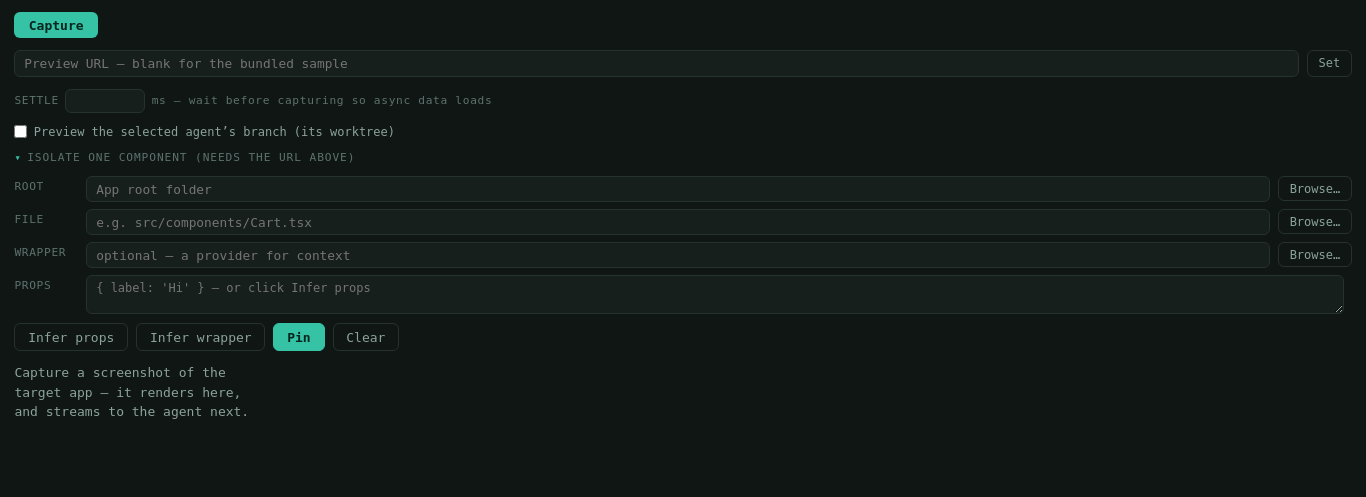
Preview › stringifies a non-Error worktree failure
Click the checkbox named "Preview the selected agent's branch": (21, 132) top-left (14, 125), bottom-right (27, 138)
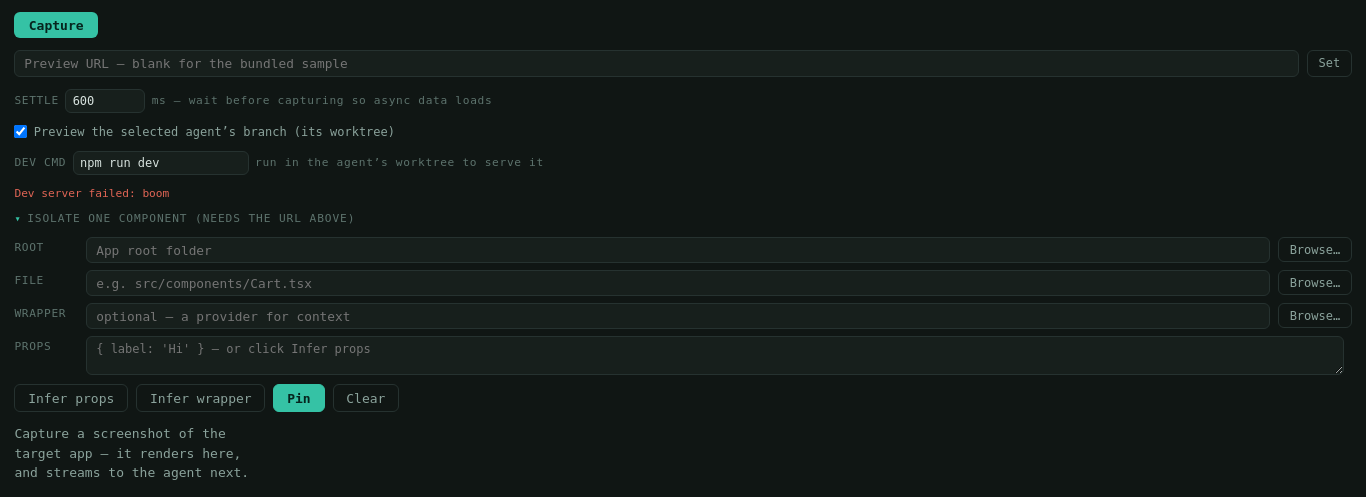
Check: the text "Dev server failed: boom" is shown, box top-left (14, 187), bottom-right (169, 200)
